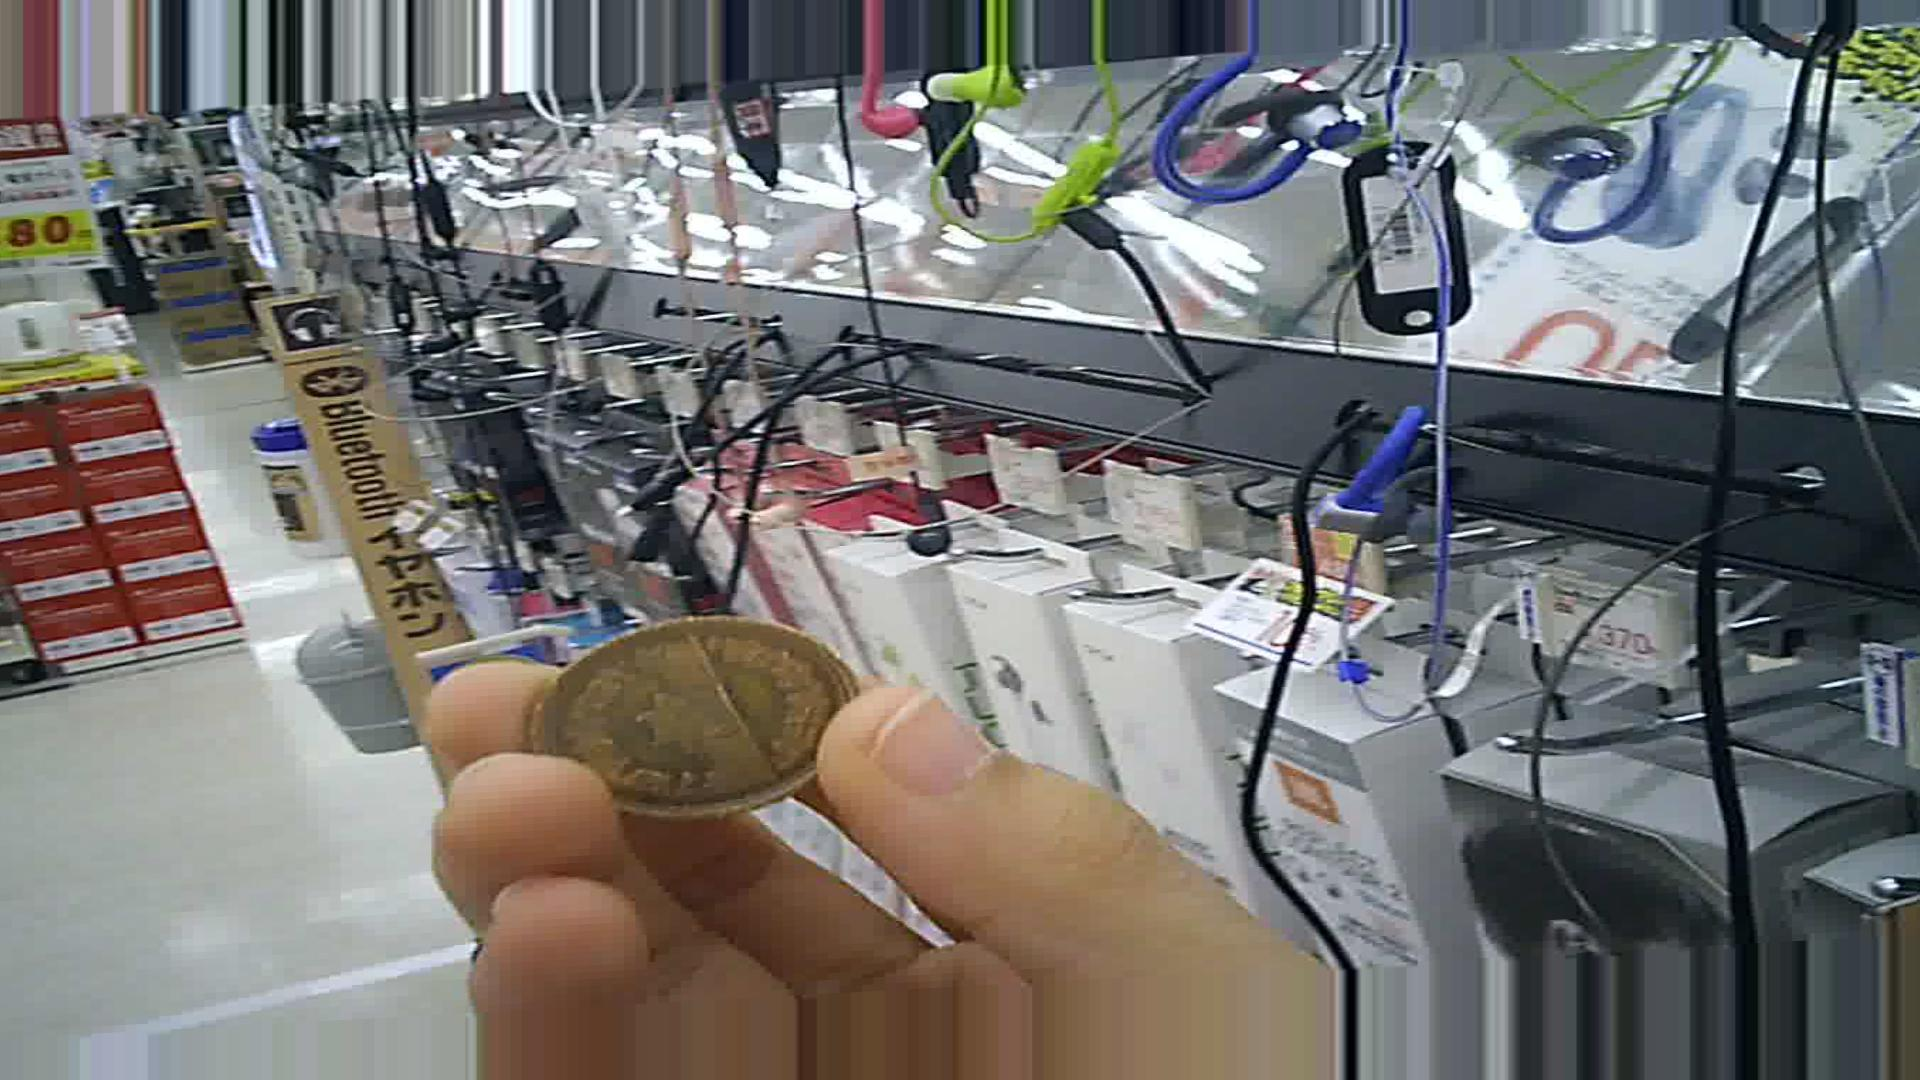10 Yen: (524, 616, 858, 814)
